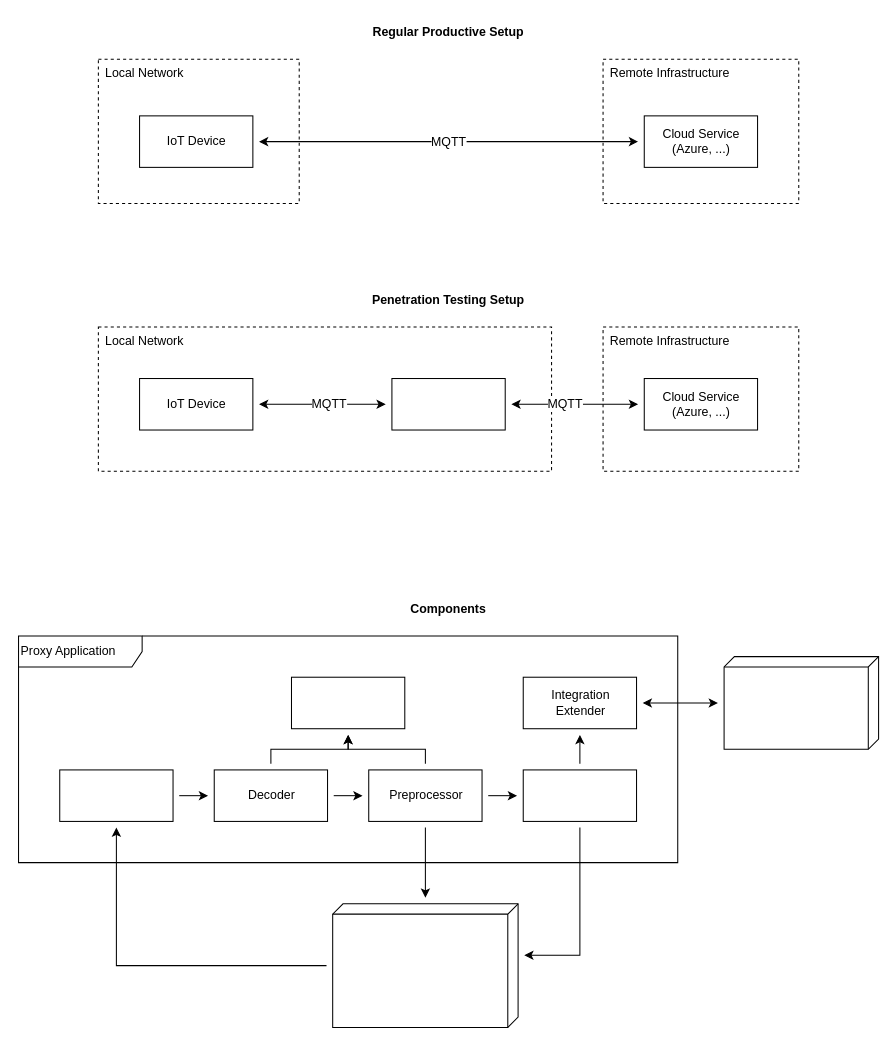
Some shapes in this 896 by 1045 pixel diagram are drawn without their labels. Here are the shapes that lost their labels. From the top down, the centre of each, then its label:
At (448,403): "IoT Proxy (MITM)".
At (347,702): "Protocol Extender".
At (801,702): "Additional Tools (e.g. BurpSuite)".
At (116,795): "Interceptor".
At (579,795): "Integration".
At (425,965): "OS Network Stack".
